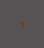four: (19, 20, 23, 28)
